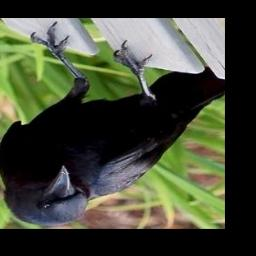Crow: (0, 21, 224, 226)
